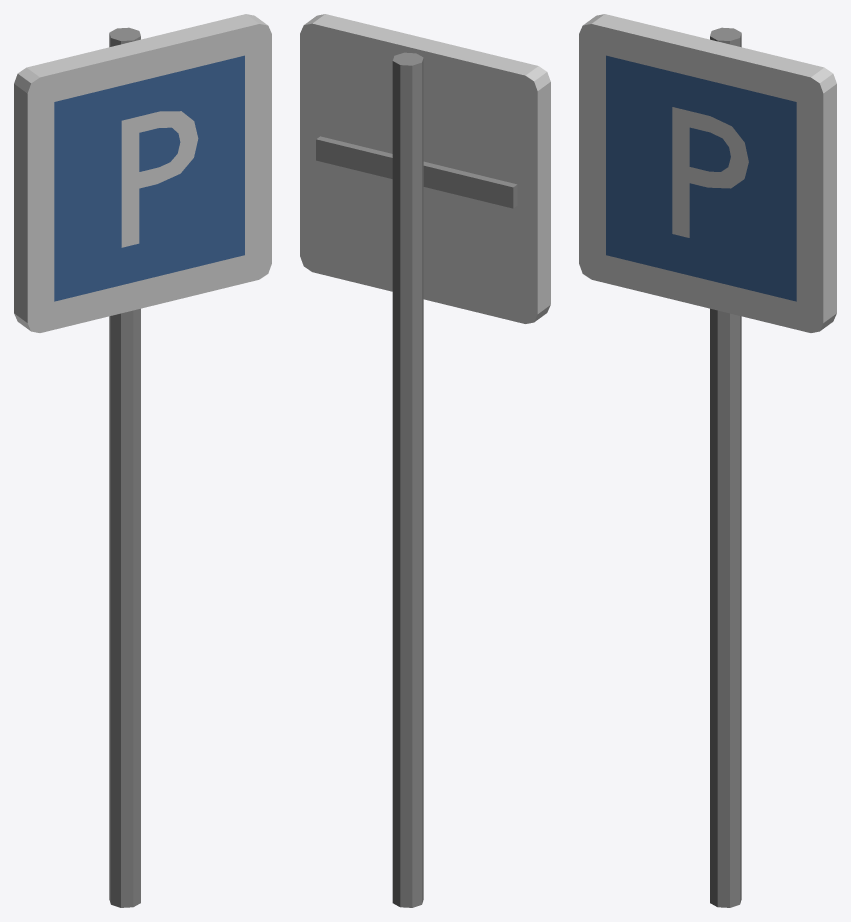
Rendered from RoadSign_04.fbx.
The picture shows the model from 3 angles, left to right: view 1: azimuth 30°, elevation 25°; view 2: azimuth 150°, elevation 25°; view 3: azimuth 330°, elevation 25°; orthographic projection. The views are drawn at different scales.
Visible parts, largest first — view 1: RoadSign_04; view 2: RoadSign_04; view 3: RoadSign_04.
Part boxes in pixels (bbox=[...]): RoadSign_04: bbox=[14, 14, 271, 907]; RoadSign_04: bbox=[300, 14, 550, 907]; RoadSign_04: bbox=[579, 14, 836, 907].
Size of the model in its own units: 52.02 by 177 by 12.25.
